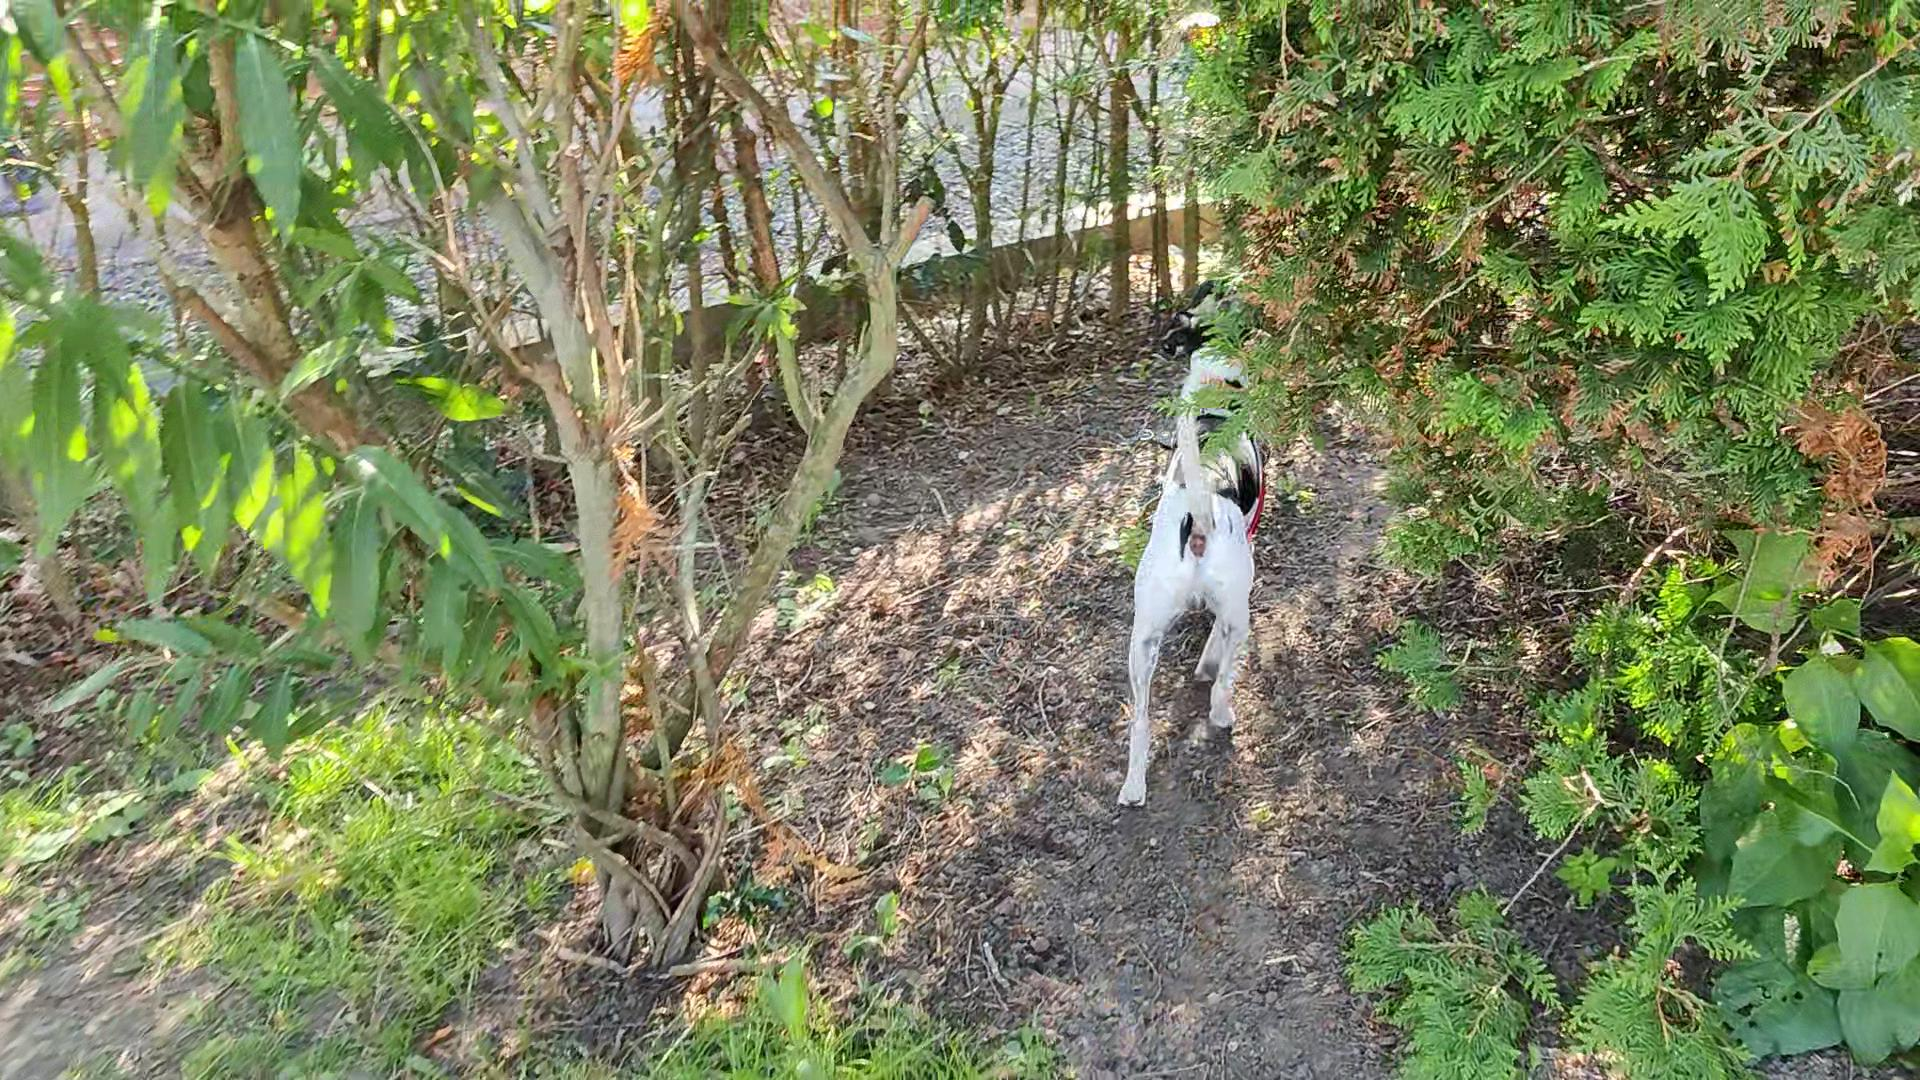Dog: (1096, 265, 1298, 825)
